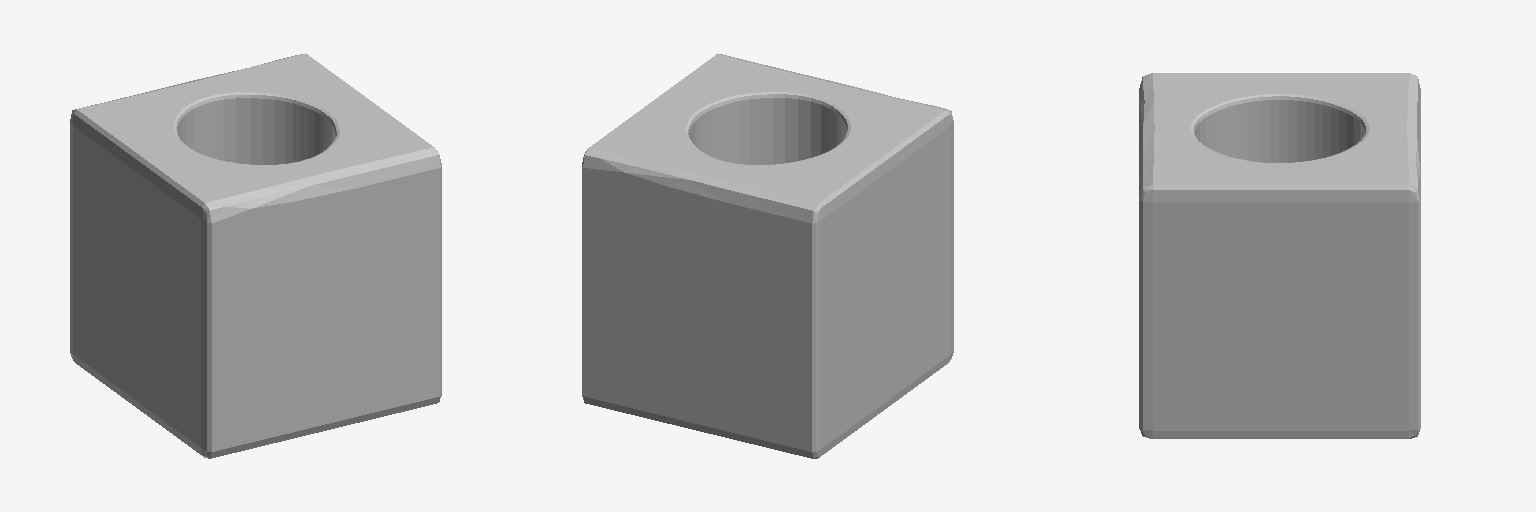
The model's file is cuboo hoyoo.obj.
3 views of the same model, side by side, from view 1: azimuth 30°, elevation 25°; view 2: azimuth 150°, elevation 25°; view 3: azimuth 270°, elevation 25° (orthographic).
Visible parts, largest first — view 1: pCube4; view 2: pCube4; view 3: pCube4.
Boxes of the visible parts, x1=… form: pCube4: x1=70, y1=53, x2=441, y2=458; pCube4: x1=582, y1=54, x2=953, y2=458; pCube4: x1=1139, y1=73, x2=1420, y2=438.
Bounding box in the file's own units: 0.9715 × 1 × 1.